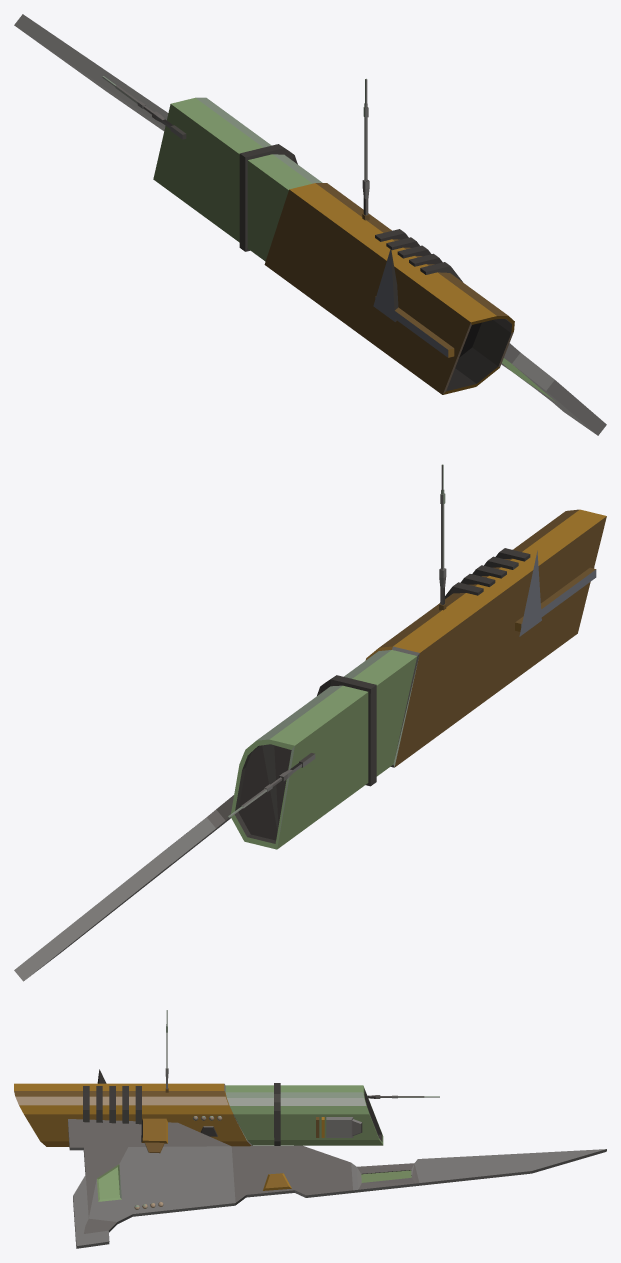
File: nacelle_starboard.glb
The picture shows the model from 3 angles, top to bottom: view 1: azimuth 30°, elevation 25°; view 2: azimuth 150°, elevation 25°; view 3: azimuth 270°, elevation 25°; orthographic projection. The views are drawn at different scales.
Size of the model in its own units: 0.8184 by 1.34 by 3.7.
